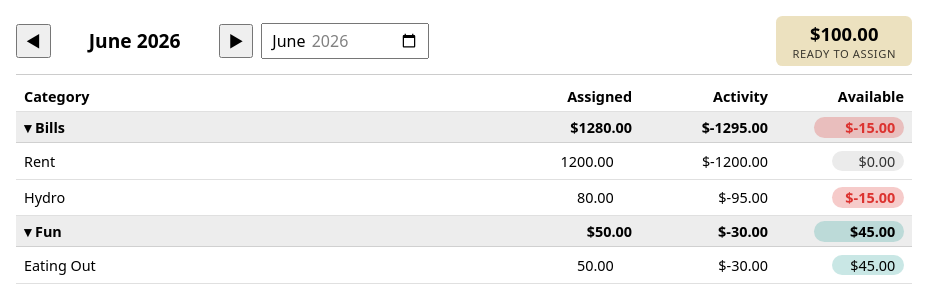
it: BudgetPage month grid (E3.S2) › AC-2: prev/next navigation fetches each month and disables at the bounds
Expected: the field named "Assigned to Hydro" is shown, [512,184,620,210]
Click the button named "Next month": click(236, 41) [219,24,253,58]
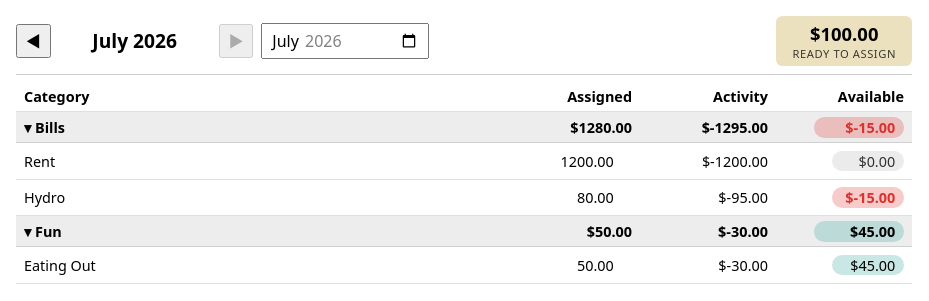
Expected: the button named "Next month" is disabled, [219,24,253,58]
Click the button named "Previous month": click(33, 41) [16,24,51,58]
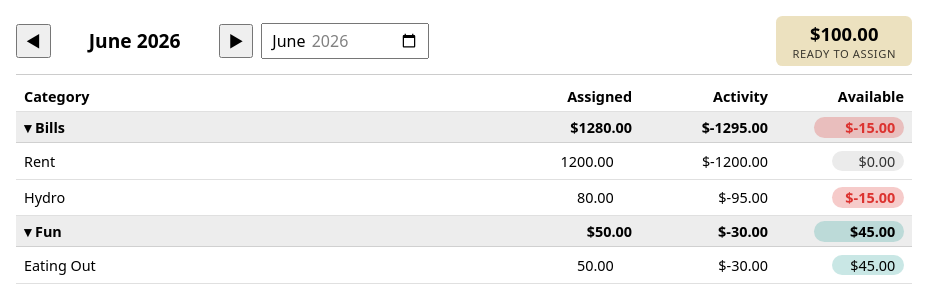
Click the button named "Previous month": click(33, 41) [16,24,51,58]
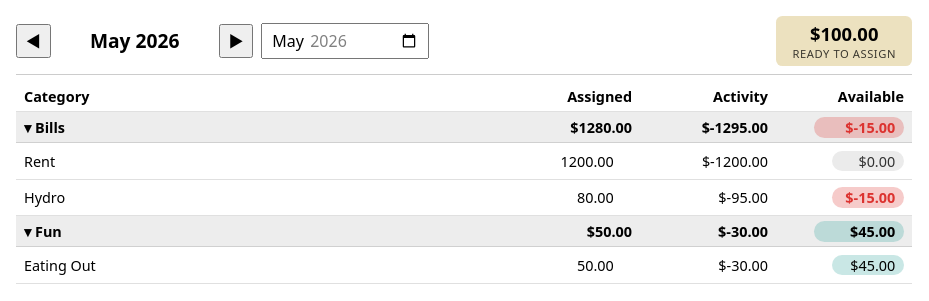
Click the button named "Previous month": click(33, 41) [16,24,51,58]
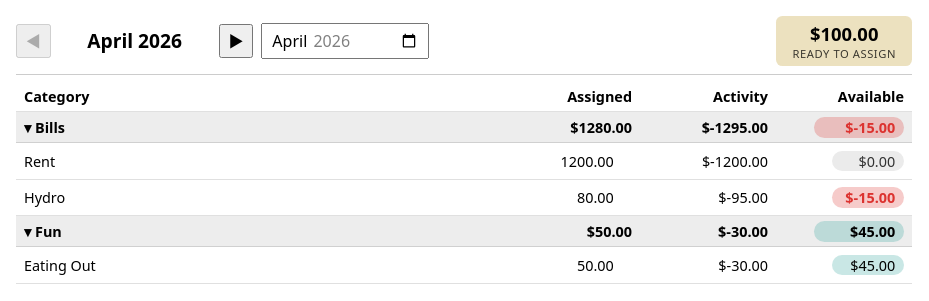
Expected: the button named "Previous month" is disabled, [16,24,51,58]
